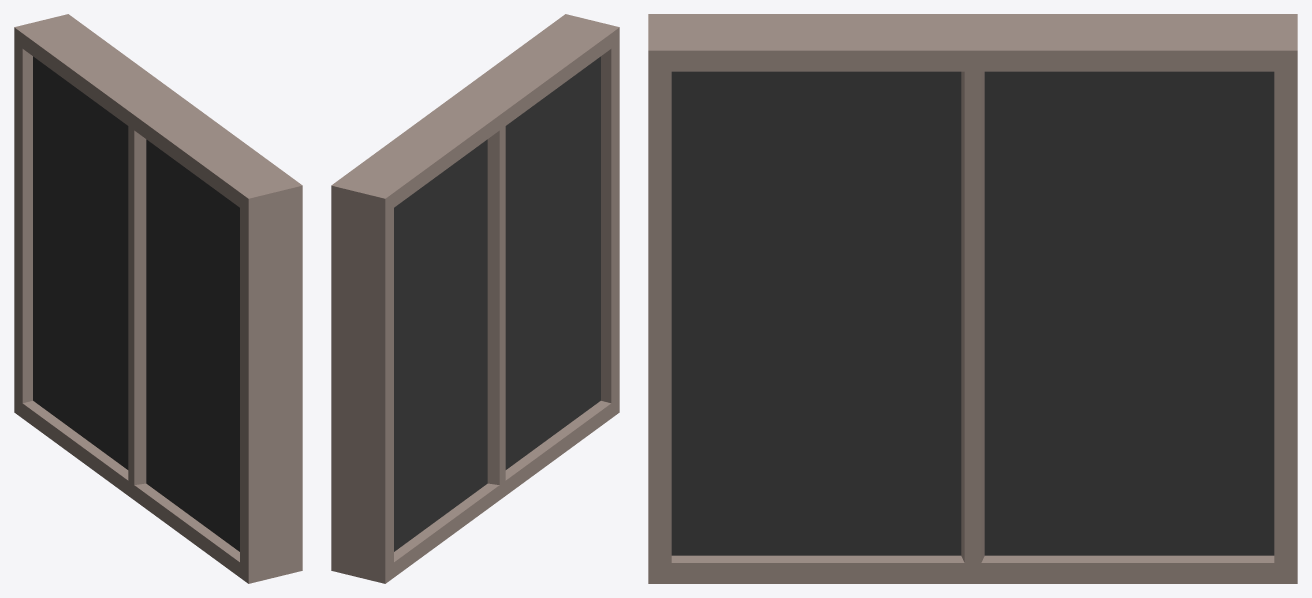
File: window_mesh.fbx
3 views of the same model, side by side, from view 1: azimuth 30°, elevation 25°; view 2: azimuth 150°, elevation 25°; view 3: azimuth 270°, elevation 25° (orthographic). The views are drawn at different scales.
Parts seen in each view (by area): view 1: window_mesh; view 2: window_mesh; view 3: window_mesh.
Boxes of the visible parts, bbox=[...] form: window_mesh: bbox=[14, 14, 302, 583]; window_mesh: bbox=[331, 14, 619, 583]; window_mesh: bbox=[648, 14, 1297, 583].
Bounding box in the file's own units: 0.0745 × 0.5055 × 0.5575.
